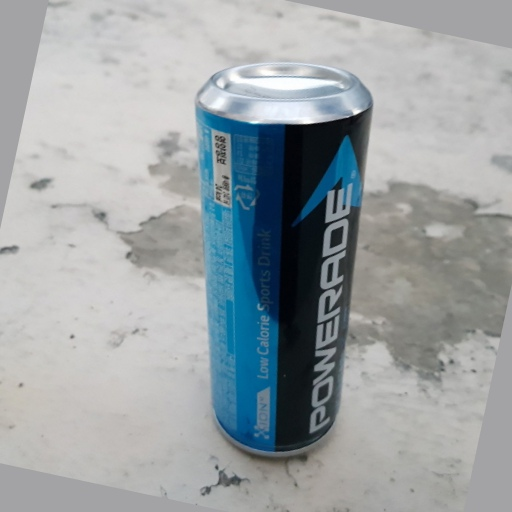Metal_0: (193, 59, 374, 457)
